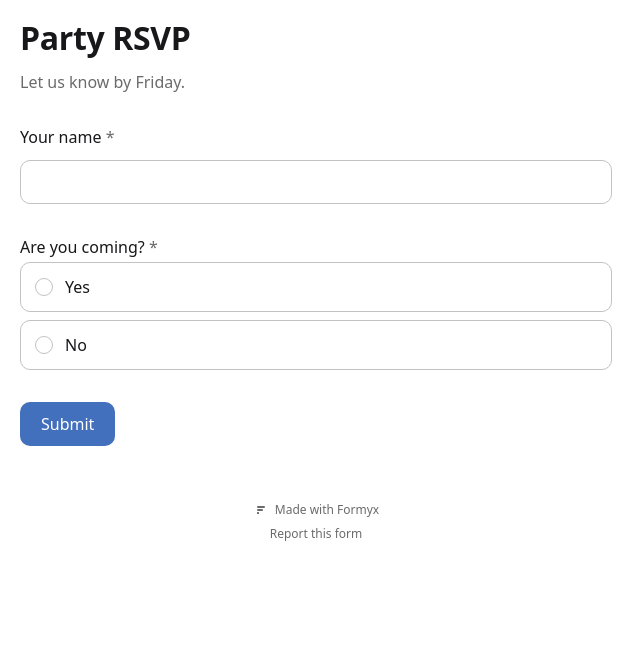
PublicFormPage › explains when the form closed while it was being filled in
Expected: the heading "Party RSVP" is shown, [20,16,190,59]
Type "Ada" into the field labelled "Your name *" at (316,182), box [20,160,612,204]
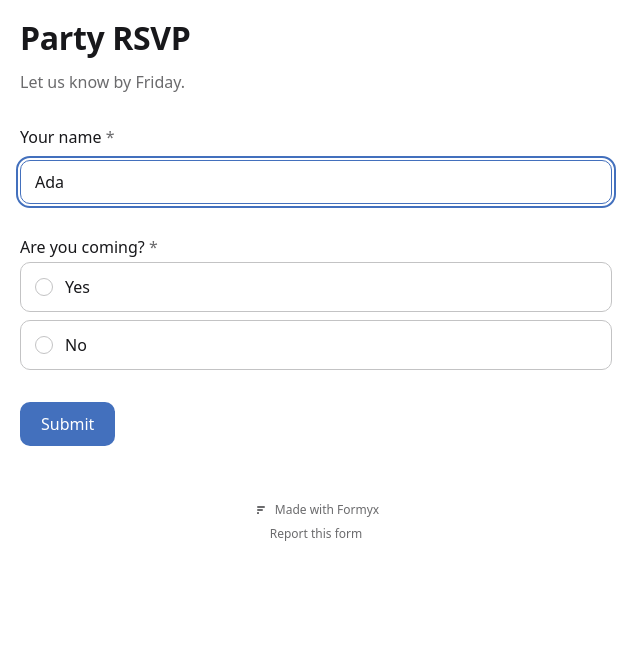
Click the radio button labelled "No" at (44,345), box [20,320,612,370]
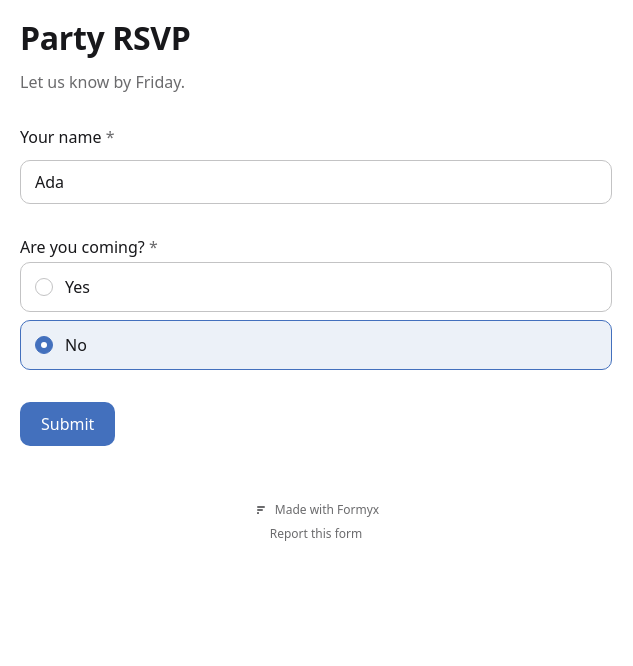
Click the button "Submit" at (68,424), box [20,402,115,446]
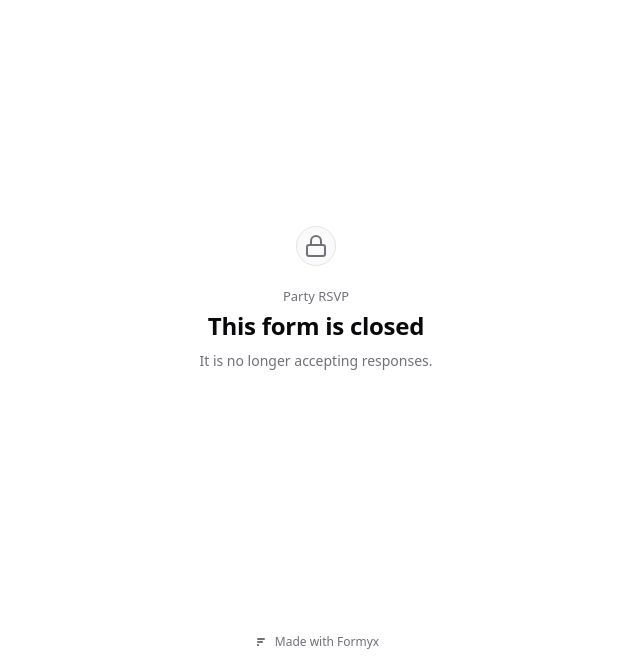
Now the heading "This form is closed" is shown, box [208,310,424,342]
